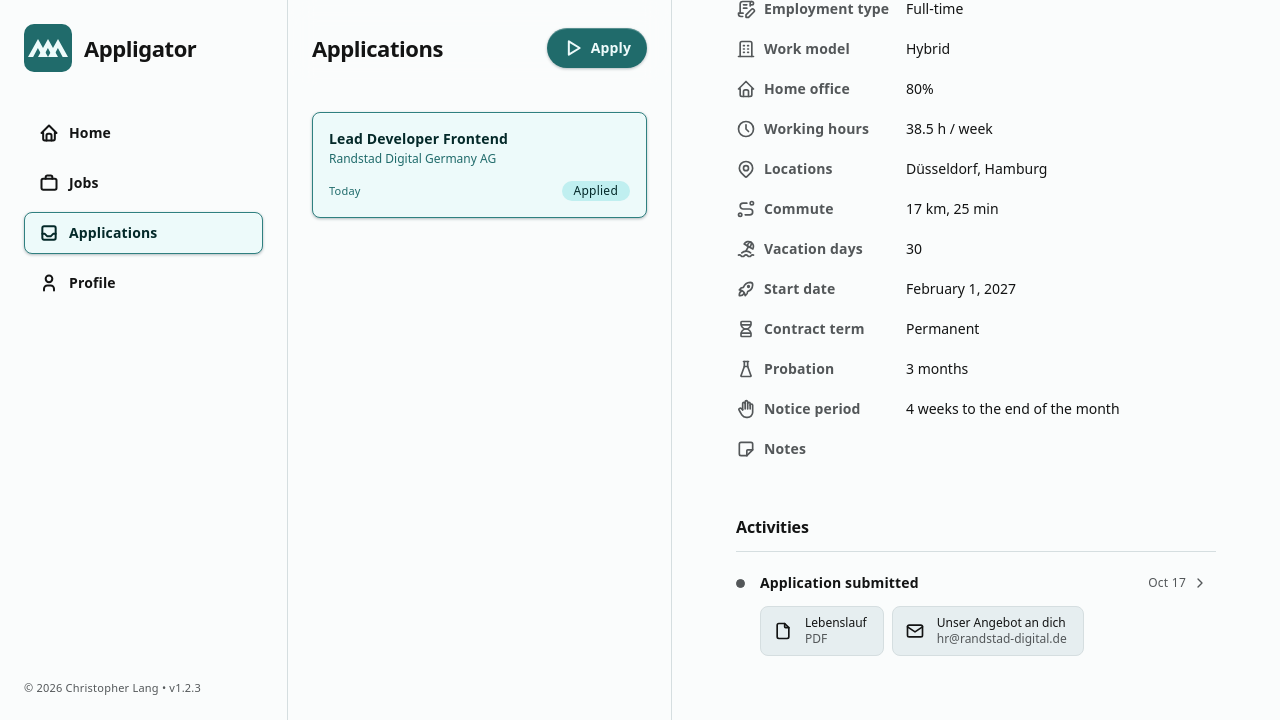
Scenario: requires a file in the file drawer
The width and height of the screenshot is (1280, 720).
(page scrolled)
Click the button with aria-label "Edit Application submitted".
click(1176, 583)  # box top-left (1136, 569), bottom-right (1216, 597)
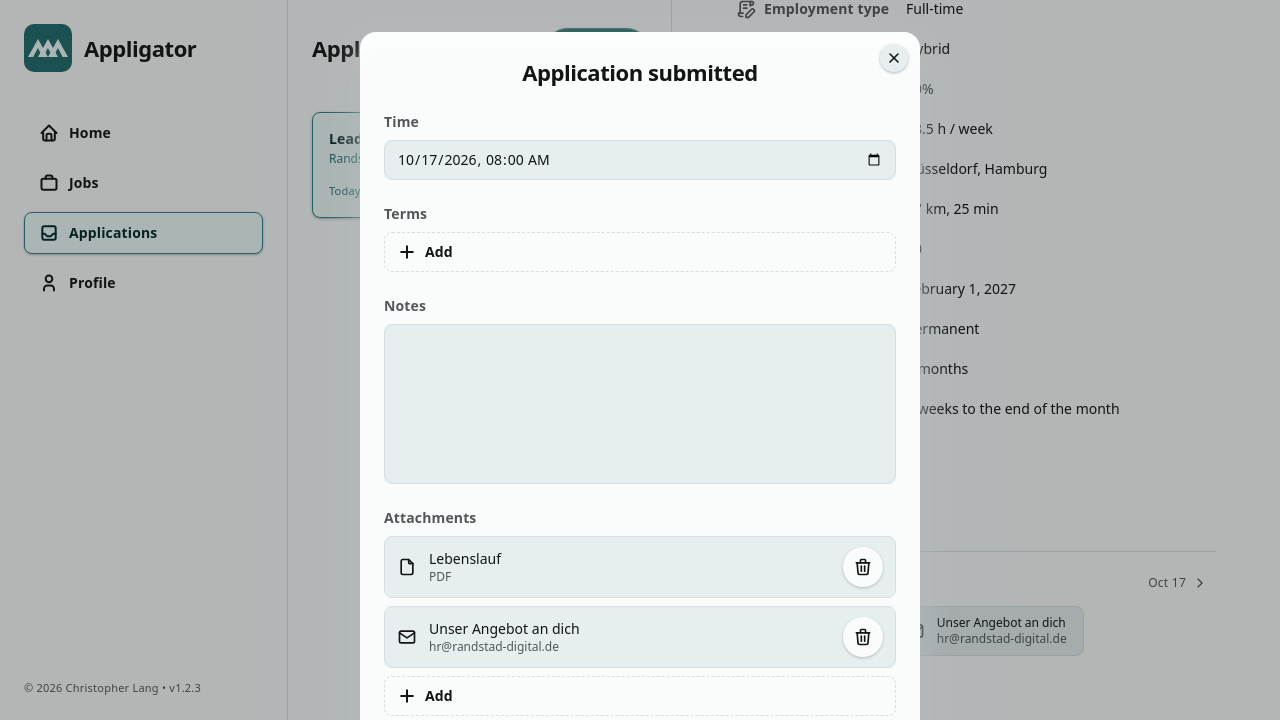
Click the button with aria-label "Add attachment".
click(407, 696)  # box top-left (384, 676), bottom-right (896, 716)
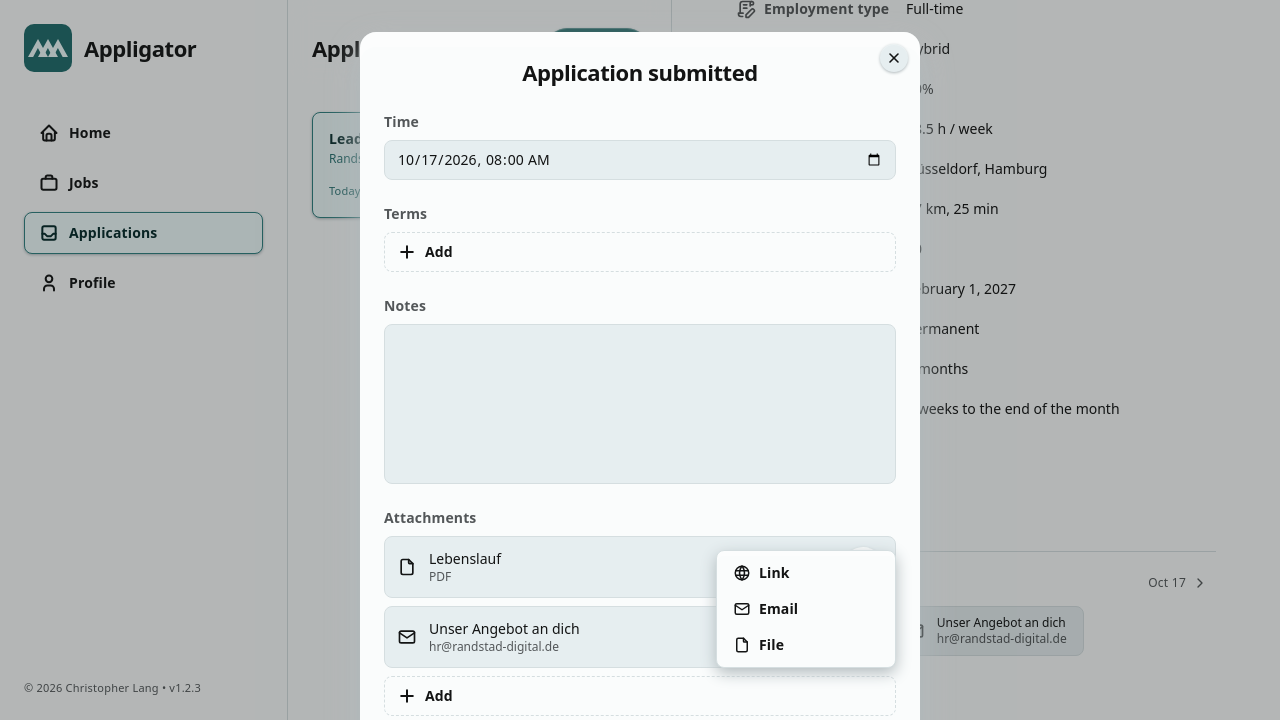
Click the menu item "File".
click(759, 644)  # box top-left (733, 635), bottom-right (784, 654)
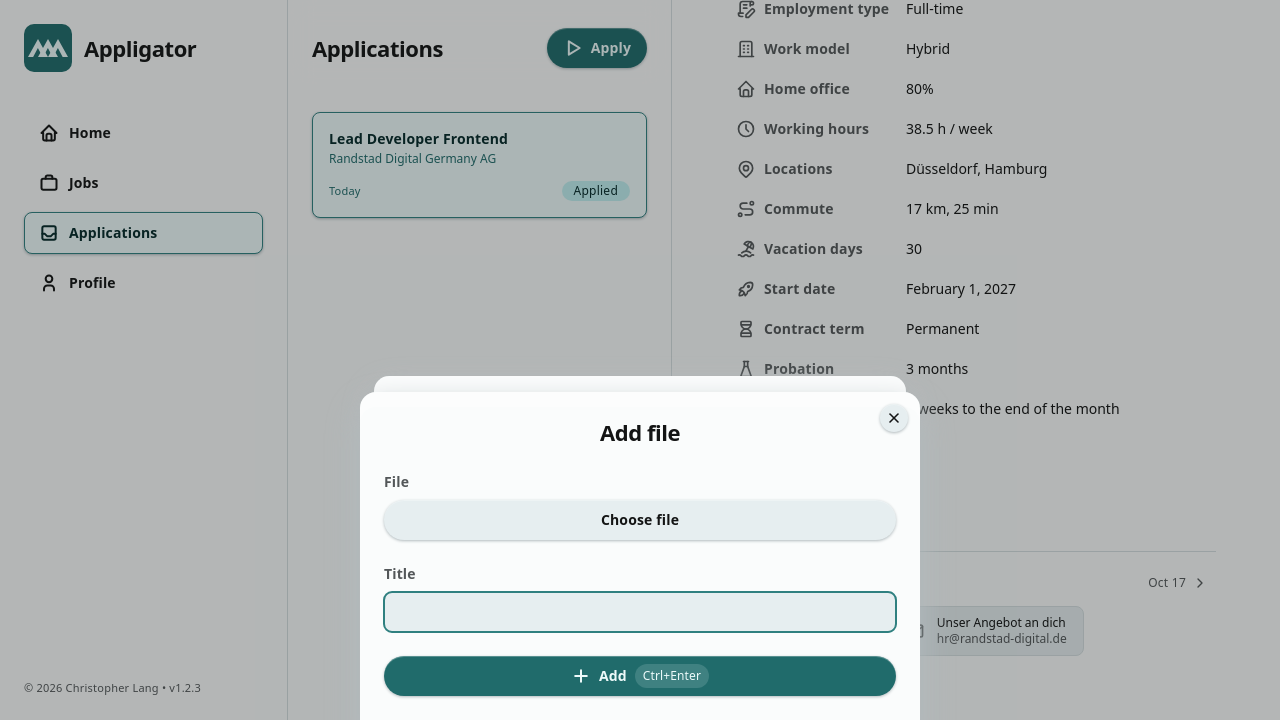
Click the button "Add Ctrl+Enter".
click(640, 676)  # box top-left (384, 656), bottom-right (896, 696)
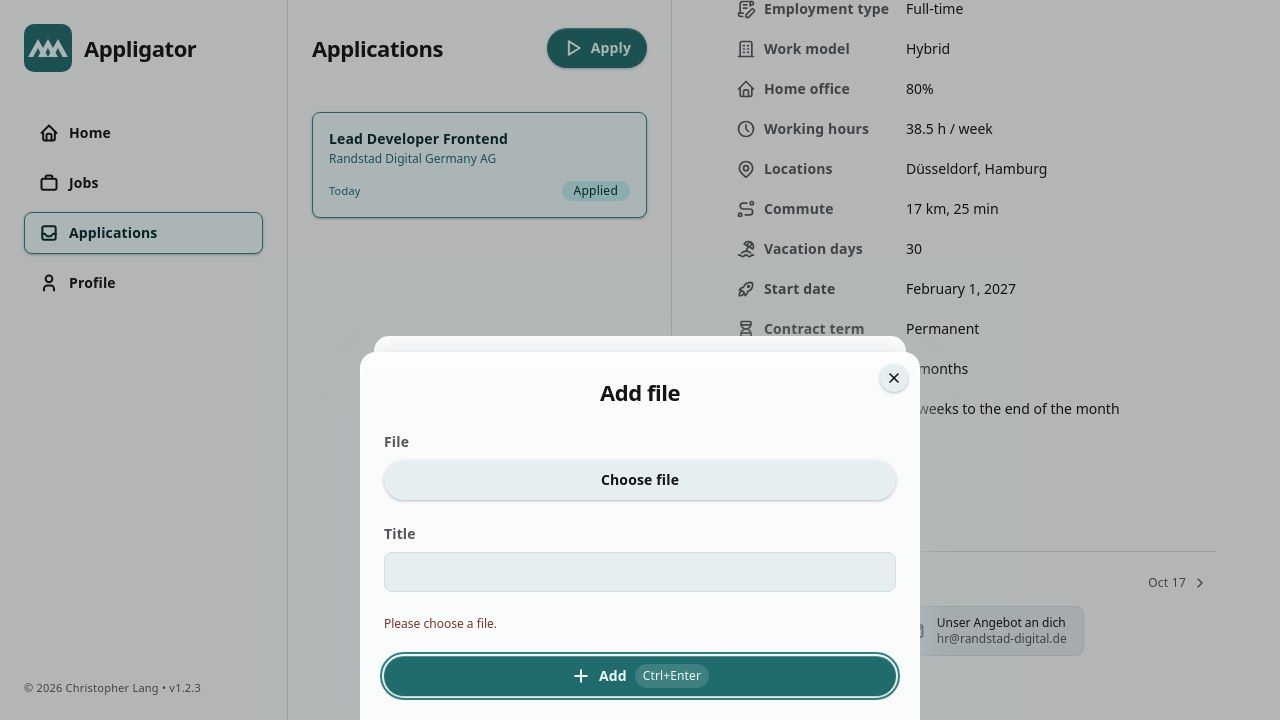
Expected: the message reads "Please choose a file.", top-left (384, 615), bottom-right (497, 632)
